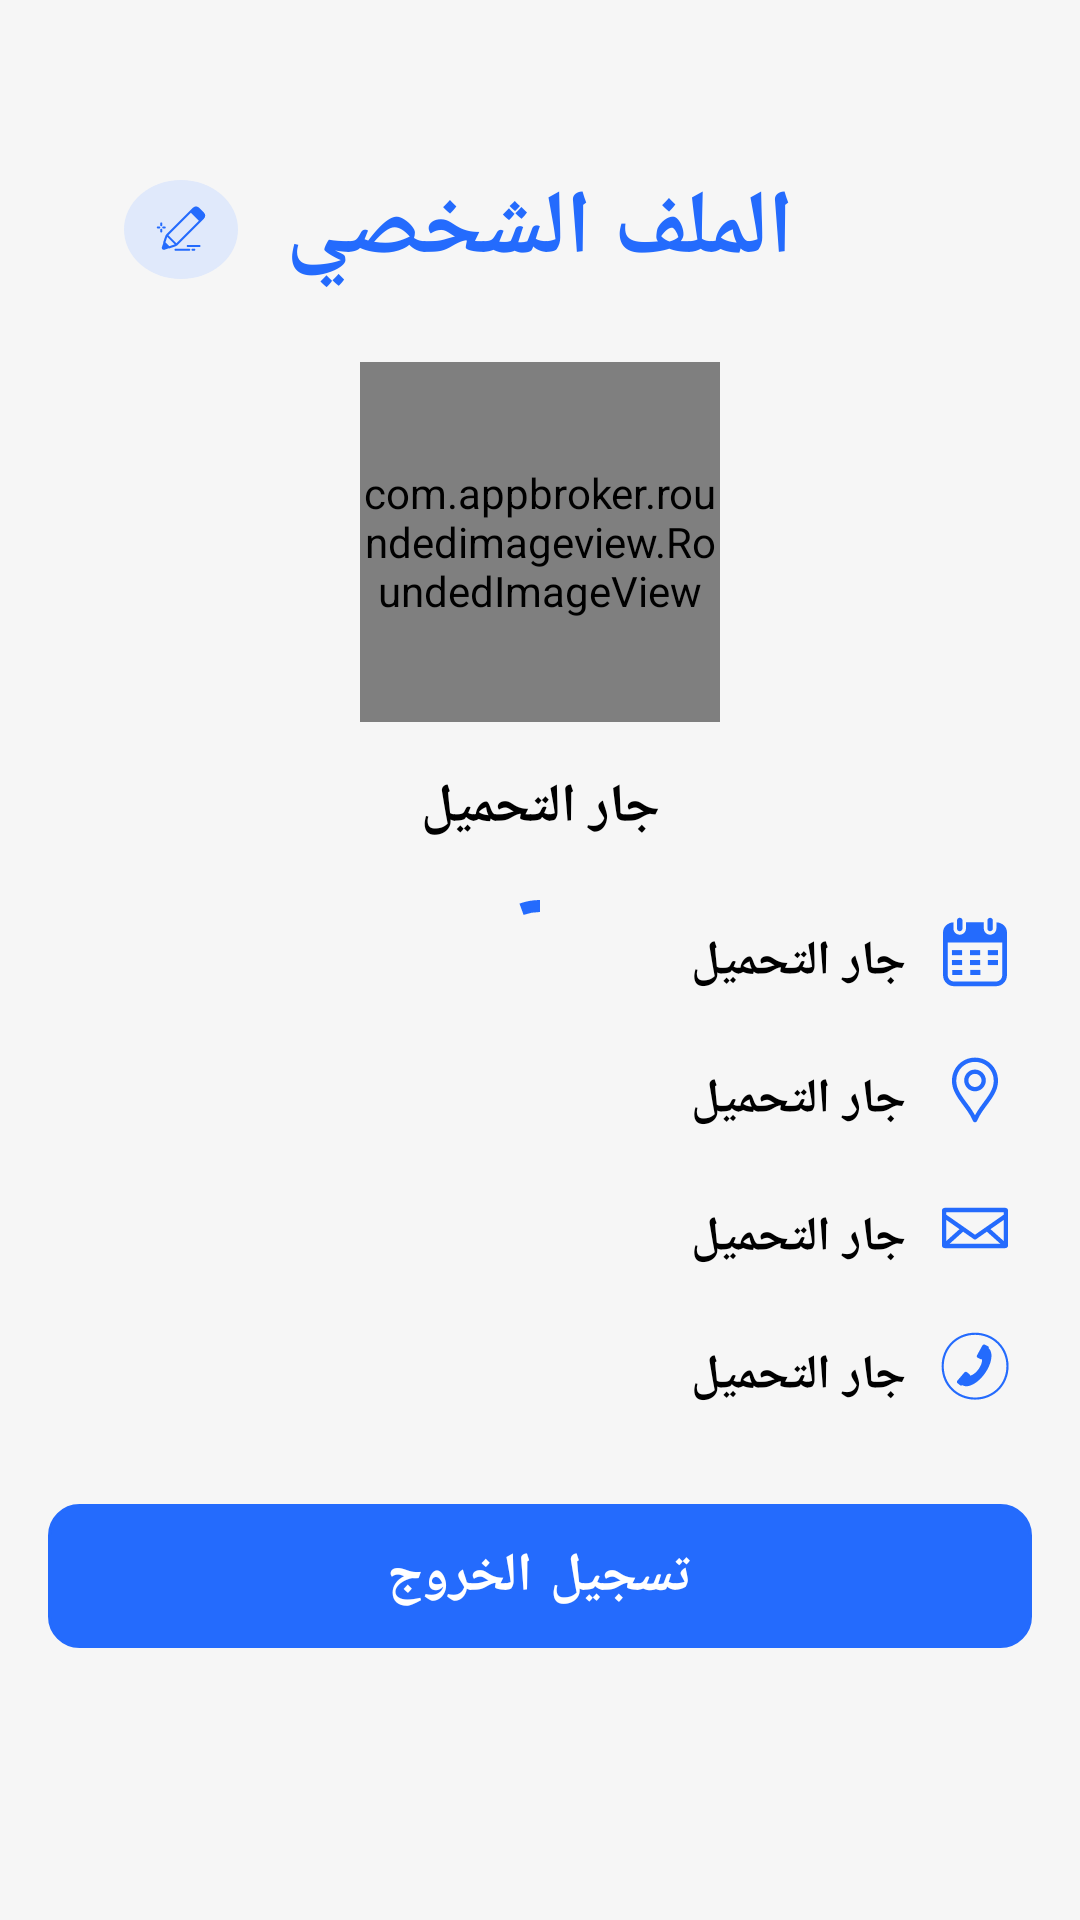

Locate icon controls on the screen. Image size 1080px×1920px, boxes as (x1, y1, x2, y2).
addres: (952, 1057, 998, 1123)
calendar: (943, 917, 1007, 987)
edit: (124, 180, 238, 279)
email: (942, 1207, 1008, 1249)
phone: (941, 1332, 1009, 1400)
